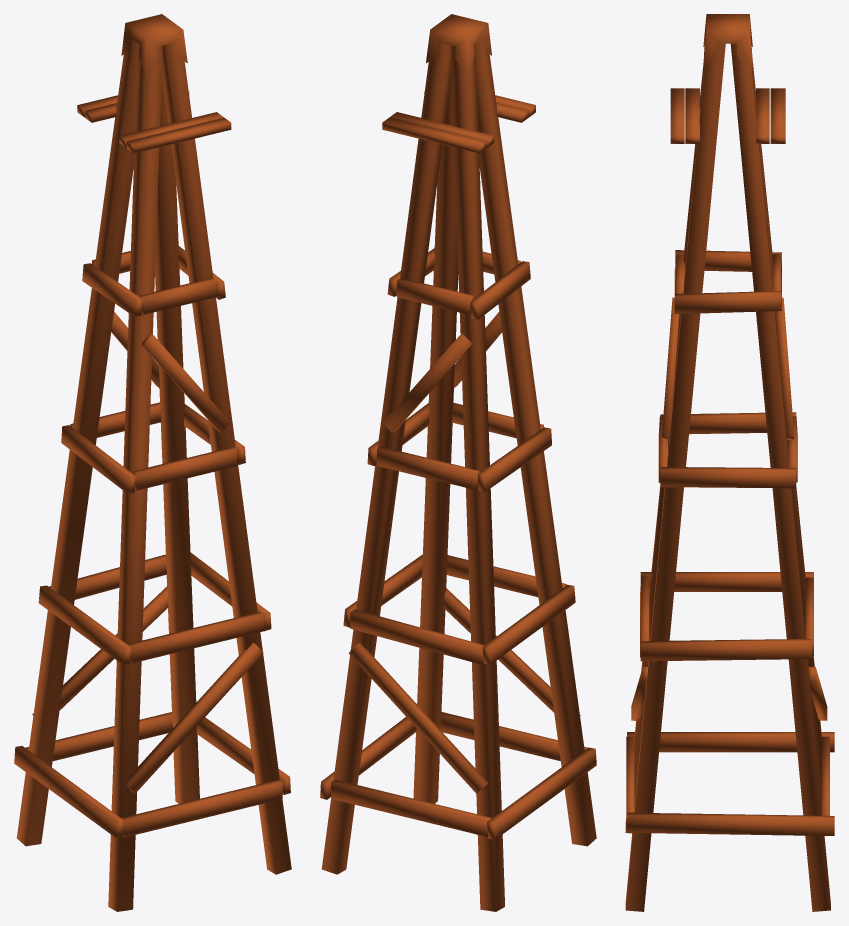
File: Western_Windmill_StructureParts.fbx
The picture shows the model from 3 angles, left to right: view 1: azimuth 30°, elevation 25°; view 2: azimuth 150°, elevation 25°; view 3: azimuth 270°, elevation 25°; orthographic projection.
Parts seen in each view (by area): view 1: windmill-structure-parts, windmill-structure-parts.004, windmill-structure-parts.001, windmill-structure-parts.005, windmill-structure-parts.003, windmill-structure-parts.002, windmill-structure-parts.009, windmill-structure-parts.008, windmill-structure-parts.010, windmill-structure-parts.012, windmill-structure-parts.011, windmill-structure-parts.007; view 2: windmill-structure-parts, windmill-structure-parts.004, windmill-structure-parts.005, windmill-structure-parts.001, windmill-structure-parts.003, windmill-structure-parts.002, windmill-structure-parts.012, windmill-structure-parts.010, windmill-structure-parts.007, windmill-structure-parts.009, windmill-structure-parts.006, windmill-structure-parts.011 (+1 smaller); view 3: windmill-structure-parts, windmill-structure-parts.001, windmill-structure-parts.005, windmill-structure-parts.011, windmill-structure-parts.010, windmill-structure-parts.004, windmill-structure-parts.003, windmill-structure-parts.006, windmill-structure-parts.009, windmill-structure-parts.008, windmill-structure-parts.012, windmill-structure-parts.002.
Boxes of the visible parts, x1,y1,x2,y2 form: windmill-structure-parts: (32,14,271,793); windmill-structure-parts.004: (16,38,137,846); windmill-structure-parts.001: (162,43,291,874); windmill-structure-parts.005: (155,76,199,803); windmill-structure-parts.003: (108,456,148,911); windmill-structure-parts.002: (124,43,162,460); windmill-structure-parts.009: (121,779,282,837); windmill-structure-parts.008: (128,612,264,663); windmill-structure-parts.010: (14,746,123,837); windmill-structure-parts.012: (25,712,172,761); windmill-structure-parts.011: (196,717,290,794); windmill-structure-parts.007: (70,402,161,437); windmill-structure-parts: (343,14,580,793); windmill-structure-parts.004: (450,44,504,911); windmill-structure-parts.005: (321,43,451,874); windmill-structure-parts.001: (413,76,458,803); windmill-structure-parts.003: (514,418,596,846); windmill-structure-parts.002: (475,38,539,425); windmill-structure-parts.012: (331,779,491,836); windmill-structure-parts.010: (487,747,596,839); windmill-structure-parts.007: (376,447,479,489); windmill-structure-parts.009: (440,712,587,760); windmill-structure-parts.006: (382,117,486,153); windmill-structure-parts.011: (320,717,416,799); windmill-structure-parts: (631,14,827,720); windmill-structure-parts.001: (625,43,725,911); windmill-structure-parts.005: (730,43,830,911); windmill-structure-parts.011: (627,812,834,835); windmill-structure-parts.010: (627,732,834,752); windmill-structure-parts.004: (752,58,821,806); windmill-structure-parts.003: (625,440,668,833); windmill-structure-parts.006: (770,88,785,143); windmill-structure-parts.009: (626,736,634,832); windmill-structure-parts.008: (640,575,649,657); windmill-structure-parts.012: (822,736,829,815); windmill-structure-parts.002: (673,63,704,390).
Size of the model in its own units: 187 by 847 by 189.
Materials: 1 (1 with a texture image).
